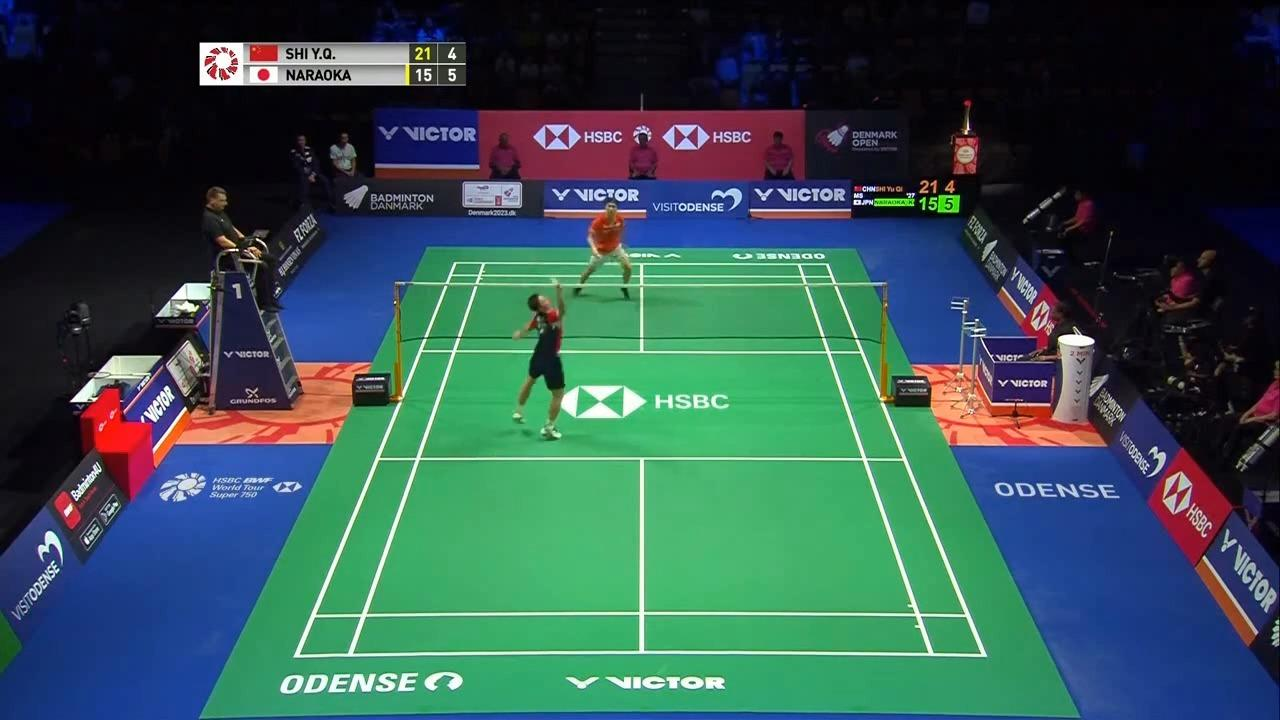shuttle: (547, 272, 558, 284)
